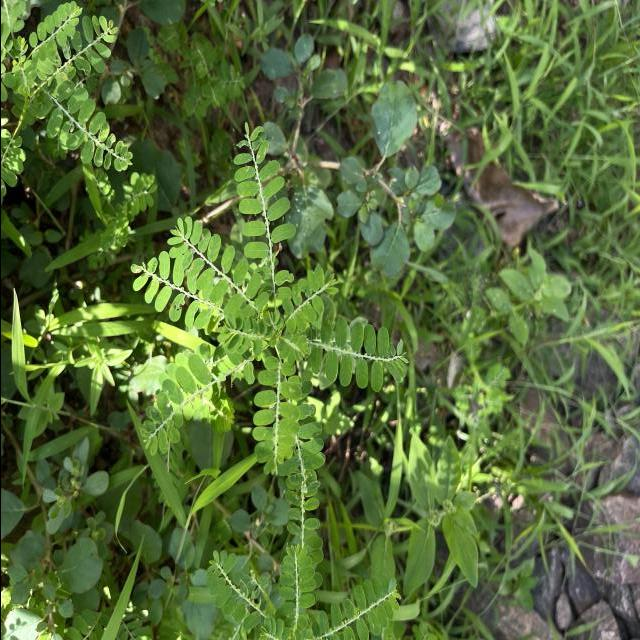Phyllanthus niruri: (166, 214, 270, 324), (232, 119, 296, 260), (311, 312, 410, 393), (44, 84, 134, 173), (138, 351, 214, 456), (252, 357, 301, 476), (282, 262, 336, 334), (26, 1, 82, 64), (214, 309, 266, 357)
